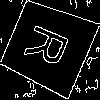R: (23, 22, 79, 73)
